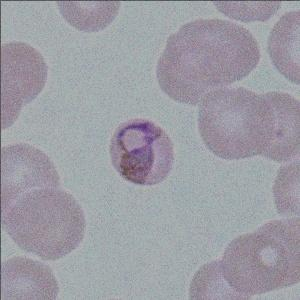Infected: (107, 116, 174, 187)
Uninfected: (198, 87, 277, 160), (2, 186, 85, 255), (170, 17, 258, 82), (0, 144, 60, 227), (159, 38, 231, 104), (247, 216, 300, 290), (224, 234, 286, 292)
